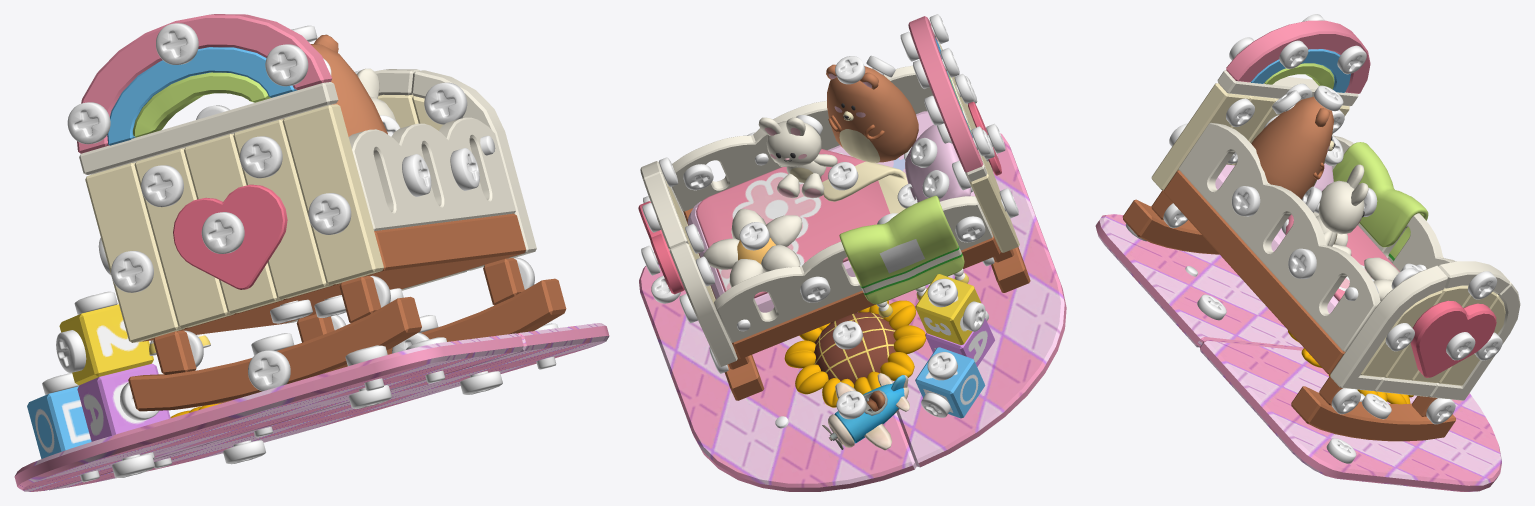
The model's file is BabyCrib.fbx.
The picture shows the model from 3 angles, left to right: view 1: azimuth 30°, elevation 25°; view 2: azimuth 150°, elevation 25°; view 3: azimuth 270°, elevation 25°; orthographic projection. The views are drawn at different scales.
Parts seen in each view (by area): view 1: Screw (×20), Board_BabyCrib_17, Board_BabyCrib_6, Board_BabyCrib_25, Board_BabyCrib_2, Board_BabyCrib_28, Board_BabyCrib_23, Board_BabyCrib_21, Board_BabyCrib_9, Board_BabyCrib_19, Board_BabyCrib_5, Board_BabyCrib_22 (+9 smaller); view 2: Board_BabyCrib_9, Board_BabyCrib_6, Board_BabyCrib_27, Board_BabyCrib_3, Screw (×15), Board_BabyCrib_26, Board_BabyCrib_7, Board_BabyCrib_2, Board_BabyCrib_18, Board_BabyCrib_17, Board_BabyCrib_8, Board_BabyCrib_28 (+13 smaller); view 3: Board_BabyCrib_9, Board_BabyCrib_2, Board_BabyCrib_6, Screw (×14), Board_BabyCrib_17, Board_BabyCrib_28, Board_BabyCrib_27, Board_BabyCrib_14, Board_BabyCrib_7, Board_BabyCrib_5, Board_BabyCrib_15, Board_BabyCrib_0 (+9 smaller).
Boxes of the visible parts, <box> form: Screw (×20): <box>56,23,502,477</box>; Board_BabyCrib_17: <box>77,14,338,174</box>; Board_BabyCrib_6: <box>14,333,523,491</box>; Board_BabyCrib_25: <box>128,276,421,411</box>; Board_BabyCrib_2: <box>348,117,515,230</box>; Board_BabyCrib_28: <box>142,213,526,341</box>; Board_BabyCrib_23: <box>282,104,383,284</box>; Board_BabyCrib_21: <box>85,162,184,342</box>; Board_BabyCrib_9: <box>49,323,609,490</box>; Board_BabyCrib_19: <box>173,184,287,289</box>; Board_BabyCrib_5: <box>296,258,566,354</box>; Board_BabyCrib_22: <box>233,119,332,299</box>; Board_BabyCrib_9: <box>639,264,916,491</box>; Board_BabyCrib_6: <box>888,128,1066,467</box>; Board_BabyCrib_27: <box>714,195,993,342</box>; Board_BabyCrib_3: <box>696,149,907,298</box>; Screw (×15): <box>651,56,985,419</box>; Board_BabyCrib_26: <box>784,300,926,407</box>; Board_BabyCrib_7: <box>826,64,918,162</box>; Board_BabyCrib_2: <box>671,65,933,211</box>; Board_BabyCrib_18: <box>703,208,802,287</box>; Board_BabyCrib_17: <box>908,16,987,181</box>; Board_BabyCrib_8: <box>758,117,837,198</box>; Board_BabyCrib_28: <box>683,195,1000,358</box>; Board_BabyCrib_9: <box>1200,340,1501,491</box>; Board_BabyCrib_2: <box>1179,122,1380,351</box>; Board_BabyCrib_6: <box>1095,214,1303,350</box>; Screw (×14): <box>1197,40,1497,463</box>; Board_BabyCrib_17: <box>1217,20,1370,106</box>; Board_BabyCrib_28: <box>1164,170,1345,373</box>; Board_BabyCrib_27: <box>1332,135,1455,271</box>; Board_BabyCrib_14: <box>1330,265,1447,390</box>; Board_BabyCrib_7: <box>1251,96,1335,199</box>; Board_BabyCrib_5: <box>1291,376,1455,441</box>; Board_BabyCrib_15: <box>1410,300,1496,377</box>; Board_BabyCrib_0: <box>1374,261,1509,396</box>.
Bounding box in the file's own units: 11.07 × 10.6 × 9.89.
Materials: 7 (6 with a texture image).
